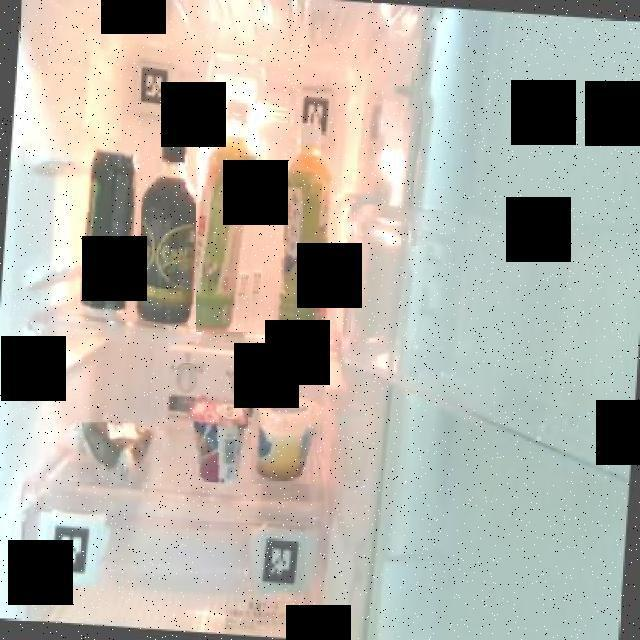bottle: (196, 88, 266, 332), (268, 131, 337, 331)
can: (74, 144, 140, 316)
coffee: (132, 134, 206, 326)
pudding: (251, 388, 324, 484)
rice_ball: (68, 410, 154, 482)
yogurt: (184, 396, 248, 486)
